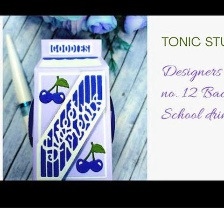carton: (30, 36, 114, 182)
